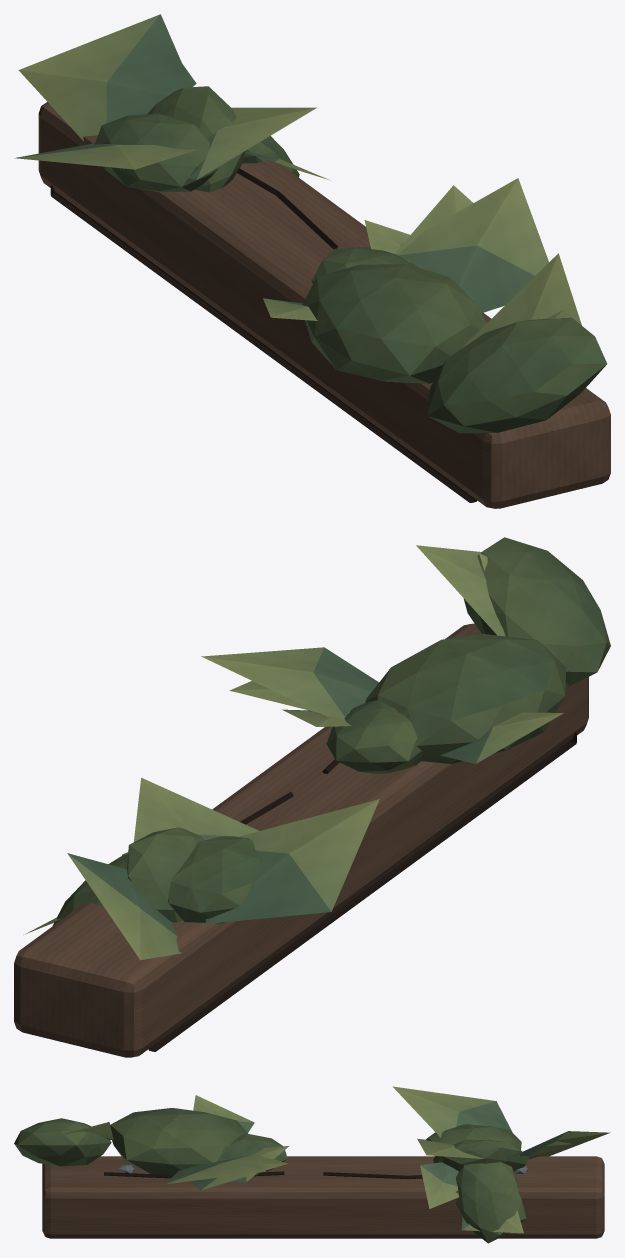
Rendered from forest_bridge_plank.glb.
3 views of the same model, one above another, from view 1: azimuth 30°, elevation 25°; view 2: azimuth 150°, elevation 25°; view 3: azimuth 270°, elevation 25° (orthographic). The views are drawn at different scales.
Visible parts, largest first — view 1: Bridge deck plank, Woodland shared moss cushion.050, Woodland shared moss cushion.051, Woodland shared curved ivy leaf.017, Woodland shared curved ivy leaf.134, Woodland shared moss cushion.052, Plank edge shadow, Woodland shared curved ivy leaf.135, Woodland shared curved ivy leaf.137, Woodland shared moss cushion.009, Woodland shared curved ivy leaf.138, Woodland shared moss cushion.053 (+5 smaller); view 2: Bridge deck plank, Woodland shared moss cushion.050, Woodland shared moss cushion.051, Woodland shared curved ivy leaf.138, Woodland shared curved ivy leaf.134, Woodland shared moss cushion.052, Woodland shared moss cushion.053, Woodland shared curved ivy leaf.017, Woodland shared moss cushion.009, Woodland shared curved ivy leaf.137, Plank edge shadow, Woodland shared curved ivy leaf.135 (+3 smaller); view 3: Bridge deck plank, Woodland shared moss cushion.050, Woodland shared moss cushion.010, Woodland shared moss cushion.051, Woodland shared curved ivy leaf.138, Woodland shared moss cushion.009, Woodland shared curved ivy leaf.134, Woodland shared curved ivy leaf.020, Woodland shared moss cushion.052, Woodland shared moss cushion.053, Woodland shared curved ivy leaf.017, Woodland shared curved ivy leaf.133 (+8 smaller).
Part boxes in pixels (x1=…): Bridge deck plank: x1=38, y1=102, x2=610, y2=508; Woodland shared moss cushion.050: x1=302, y1=264, x2=486, y2=383; Woodland shared moss cushion.051: x1=427, y1=317, x2=607, y2=433; Woodland shared curved ivy leaf.017: x1=18, y1=14, x2=191, y2=141; Woodland shared curved ivy leaf.134: x1=397, y1=178, x2=548, y2=312; Woodland shared moss cushion.052: x1=94, y1=113, x2=218, y2=192; Plank edge shadow: x1=50, y1=185, x2=477, y2=502; Woodland shared curved ivy leaf.135: x1=461, y1=253, x2=581, y2=348; Woodland shared curved ivy leaf.137: x1=188, y1=107, x2=316, y2=179; Woodland shared moss cushion.009: x1=147, y1=86, x2=245, y2=192; Woodland shared curved ivy leaf.138: x1=14, y1=143, x2=196, y2=169; Woodland shared moss cushion.053: x1=311, y1=246, x2=418, y2=283; Bridge deck plank: x1=14, y1=623, x2=588, y2=1057; Woodland shared moss cushion.050: x1=365, y1=633, x2=566, y2=763; Woodland shared moss cushion.051: x1=463, y1=537, x2=610, y2=685; Woodland shared curved ivy leaf.138: x1=205, y1=799, x2=379, y2=923; Woodland shared curved ivy leaf.134: x1=201, y1=647, x2=378, y2=717; Woodland shared moss cushion.052: x1=168, y1=836, x2=260, y2=923; Woodland shared moss cushion.053: x1=326, y1=700, x2=422, y2=773; Woodland shared curved ivy leaf.017: x1=67, y1=853, x2=181, y2=960; Woodland shared moss cushion.009: x1=127, y1=827, x2=204, y2=922; Woodland shared curved ivy leaf.137: x1=134, y1=778, x2=258, y2=841; Plank edge shadow: x1=148, y1=732, x2=576, y2=1051; Woodland shared curved ivy leaf.135: x1=416, y1=545, x2=506, y2=636; Bridge deck plank: x1=42, y1=1156, x2=604, y2=1238; Woodland shared moss cushion.050: x1=110, y1=1108, x2=247, y2=1174; Woodland shared moss cushion.010: x1=456, y1=1162, x2=526, y2=1243; Woodland shared moss cushion.051: x1=14, y1=1118, x2=111, y2=1166; Woodland shared curved ivy leaf.138: x1=392, y1=1086, x2=512, y2=1137; Woodland shared moss cushion.009: x1=433, y1=1139, x2=529, y2=1172; Woodland shared curved ivy leaf.134: x1=166, y1=1155, x2=265, y2=1184; Woodland shared curved ivy leaf.020: x1=420, y1=1162, x2=458, y2=1208; Woodland shared moss cushion.052: x1=426, y1=1124, x2=521, y2=1156; Woodland shared moss cushion.053: x1=219, y1=1134, x2=287, y2=1175; Woodland shared curved ivy leaf.017: x1=510, y1=1131, x2=610, y2=1159; Woodland shared curved ivy leaf.133: x1=193, y1=1095, x2=254, y2=1132.
Size of the model in its own units: 0.401 by 0.2345 by 1.06.
6 materials, 5 textured.
